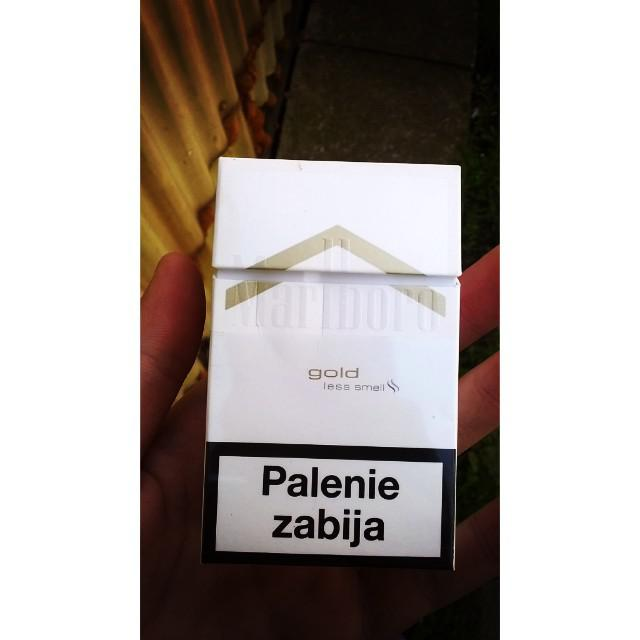marlboro_gold: (212, 159, 455, 560)
